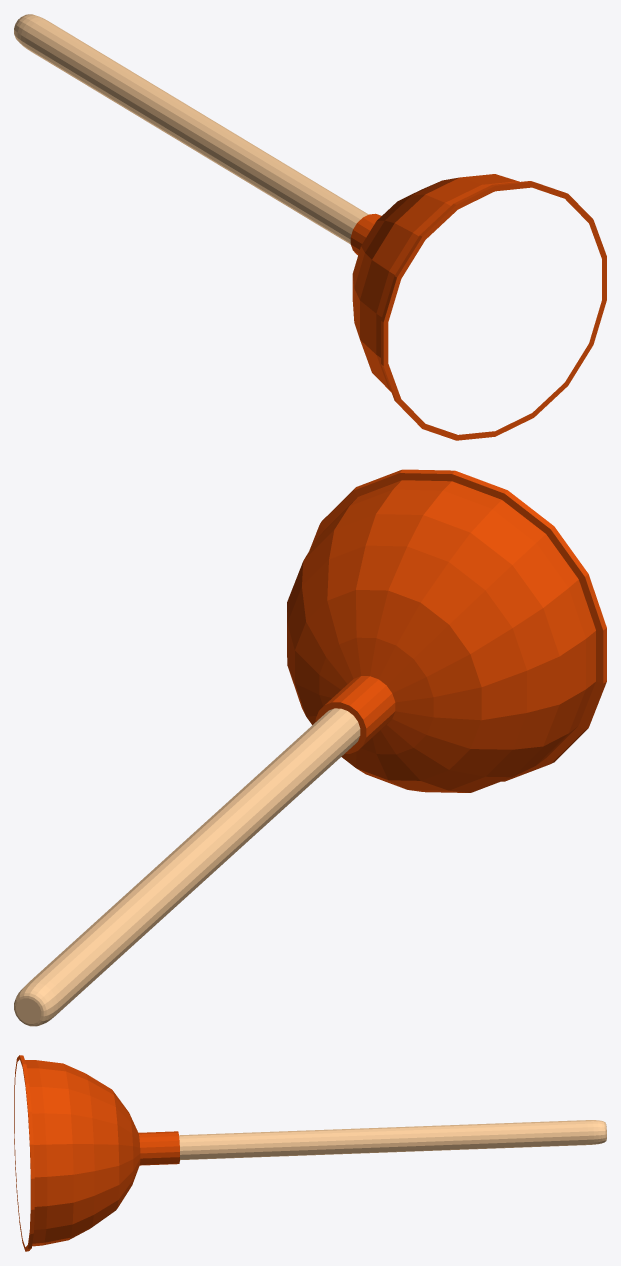
File: 5af0a786-8022-4bdb-883e-2fa87be479fc.glb
3 views of the same model, one above another, from view 1: azimuth 30°, elevation 25°; view 2: azimuth 150°, elevation 25°; view 3: azimuth 270°, elevation 25° (orthographic). The views are drawn at different scales.
Parts seen in each view (by area): view 1: Cylinder001, Object001; view 2: Object001, Cylinder001; view 3: Object001, Cylinder001.
Boxes of the visible parts, x1,y1,x2,y2 form: Cylinder001: (14,14,368,244); Object001: (350,174,606,440); Object001: (287,469,606,792); Cylinder001: (14,708,360,1026); Object001: (14,1055,179,1251); Cylinder001: (179,1120,606,1160).
Size of the model in its own units: 270183 by 275399 by 826225.
